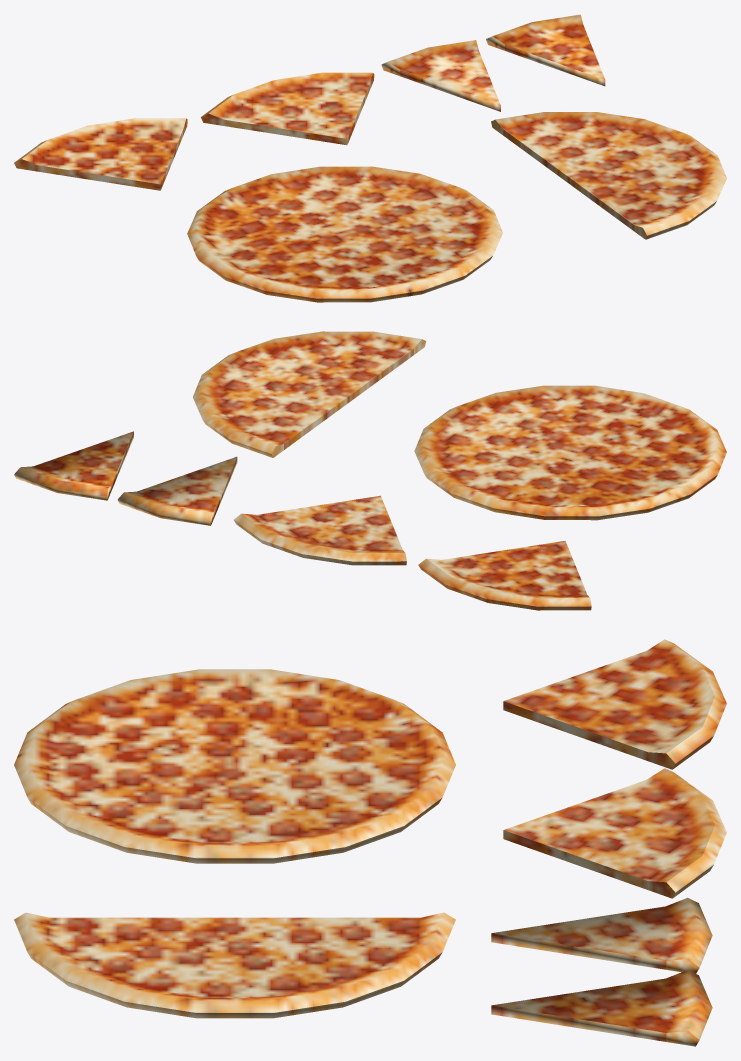
File: pepperoni half.fbx
3 renders of one model, top to bottom at view 1: azimuth 30°, elevation 25°; view 2: azimuth 150°, elevation 25°; view 3: azimuth 270°, elevation 25°, orthographic. The views are drawn at different scales.
Visible parts, largest first — view 1: whole pepperoni, half pepperoni, slice pepperoni big 2, slice pepperoni big, slice pepperoni 2, slice pepperoni; view 2: whole pepperoni, half pepperoni, slice pepperoni big 2, slice pepperoni big, slice pepperoni, slice pepperoni 2; view 3: whole pepperoni, half pepperoni, slice pepperoni big, slice pepperoni big 2, slice pepperoni 2, slice pepperoni.
Part boxes in pixels (left/top/right/bottom): whole pepperoni: left=187, top=166, right=502, bottom=302; half pepperoni: left=491, top=112, right=726, bottom=239; slice pepperoni big 2: left=201, top=72, right=374, bottom=145; slice pepperoni big: left=14, top=118, right=187, bottom=190; slice pepperoni 2: left=486, top=14, right=605, bottom=86; slice pepperoni: left=381, top=40, right=500, bottom=111; whole pepperoni: left=414, top=385, right=726, bottom=520; half pepperoni: left=193, top=331, right=426, bottom=457; slice pepperoni big 2: left=234, top=495, right=406, bottom=565; slice pepperoni big: left=418, top=540, right=591, bottom=610; slice pepperoni: left=117, top=456, right=237, bottom=525; slice pepperoni 2: left=14, top=431, right=133, bottom=500; whole pepperoni: left=14, top=669, right=455, bottom=863; half pepperoni: left=14, top=912, right=455, bottom=1018; slice pepperoni big: left=503, top=639, right=726, bottom=769; slice pepperoni big 2: left=503, top=768, right=726, bottom=898; slice pepperoni 2: left=491, top=970, right=712, bottom=1046; slice pepperoni: left=491, top=897, right=712, bottom=973.
Size of the model in its own units: 76.96 by 1.29 by 58.44.
